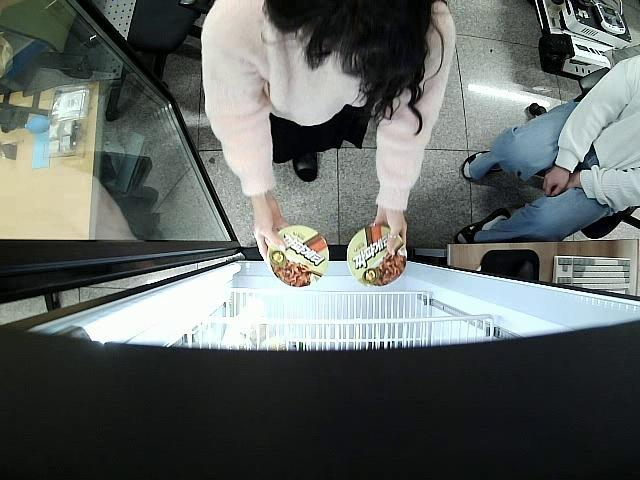03_chapagetti_L: (268, 223, 330, 288), (348, 226, 409, 285)
